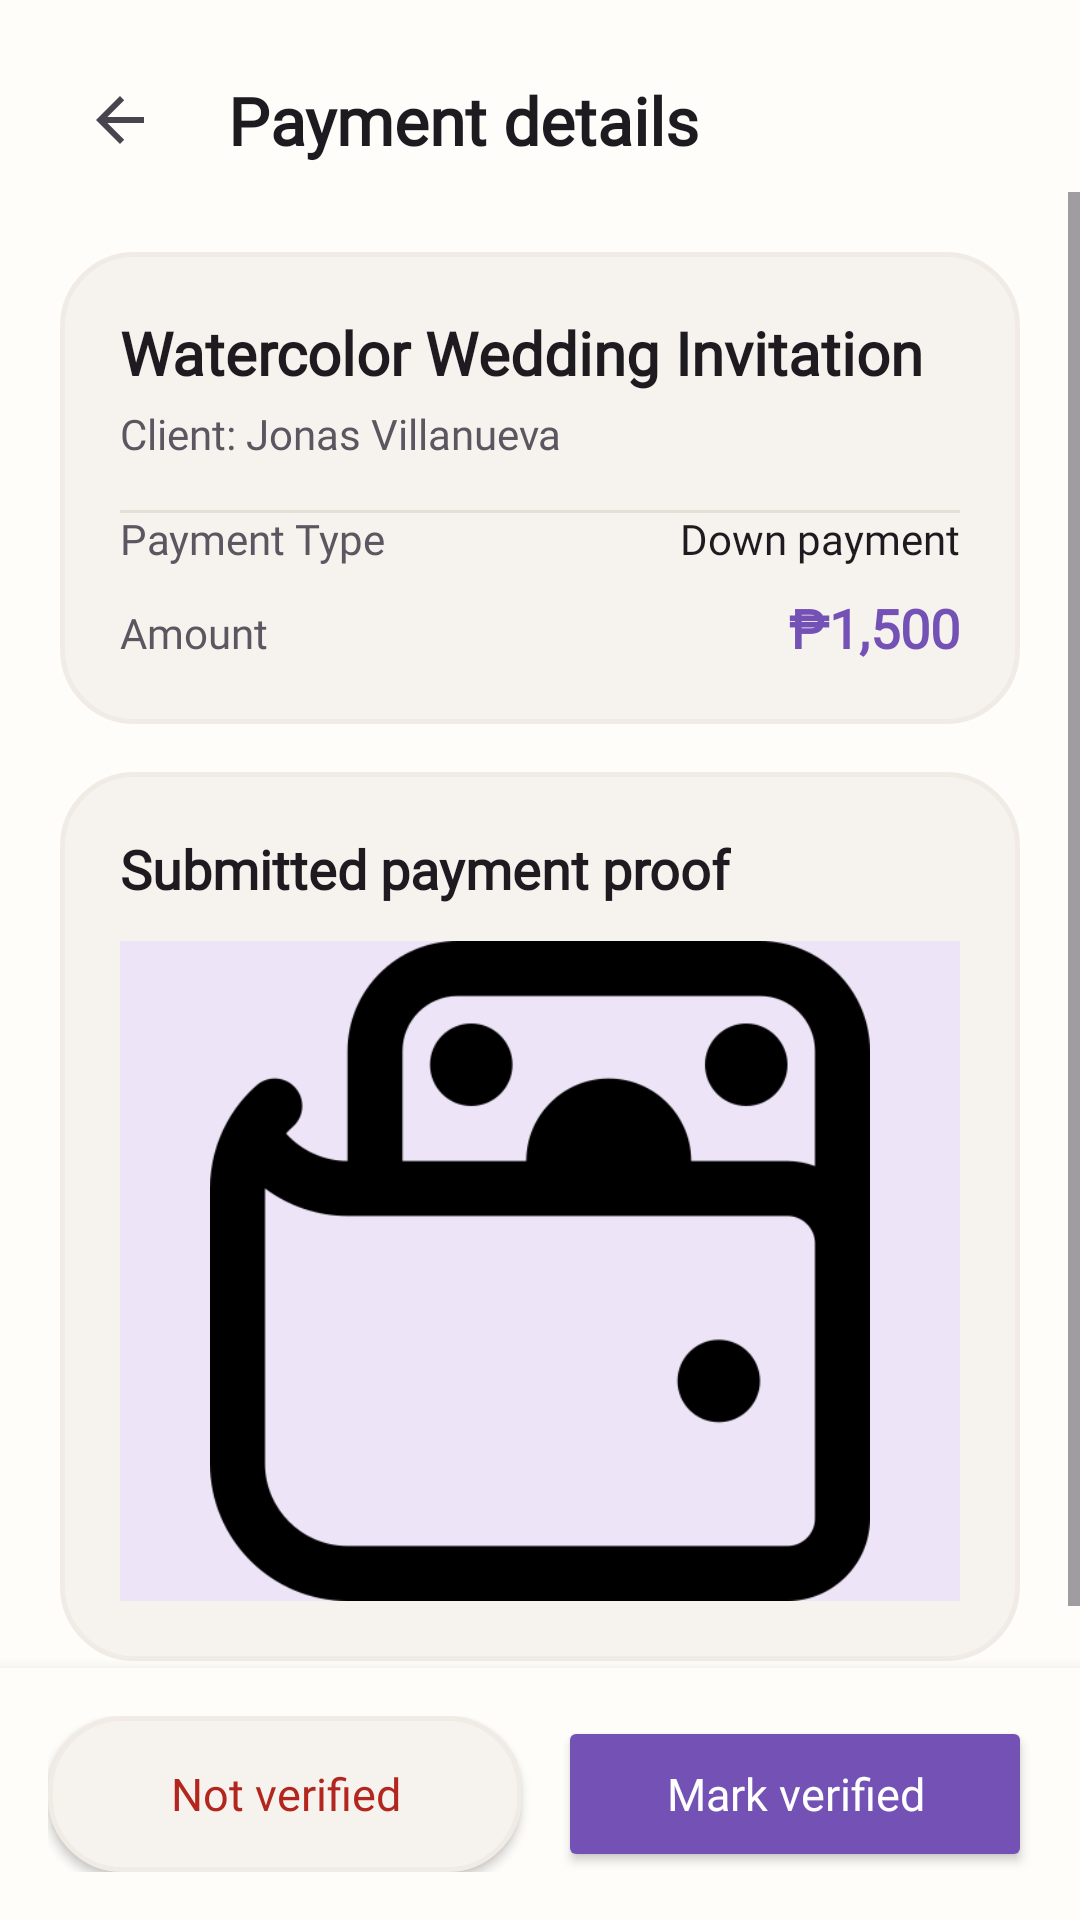

Screen size 1080*1920. Icon name, then its box in pixels as Rect(x1, y1, x2, y2):
Back: Rect(96, 96, 144, 144)
